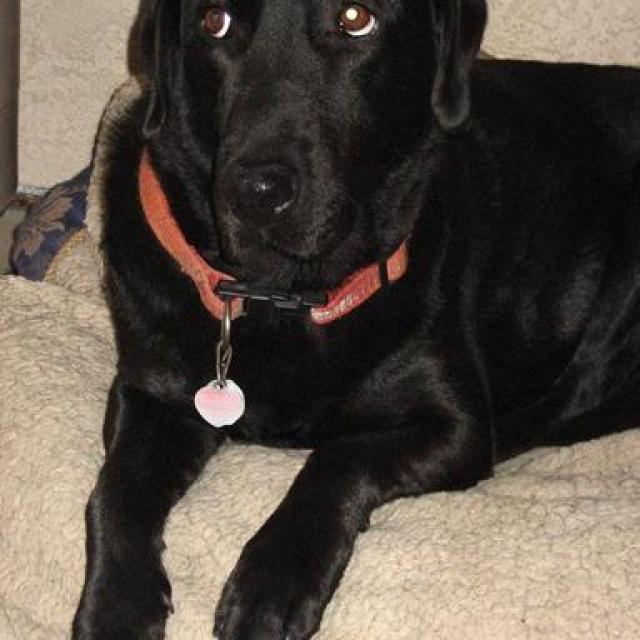sad: (38, 0, 532, 640)
